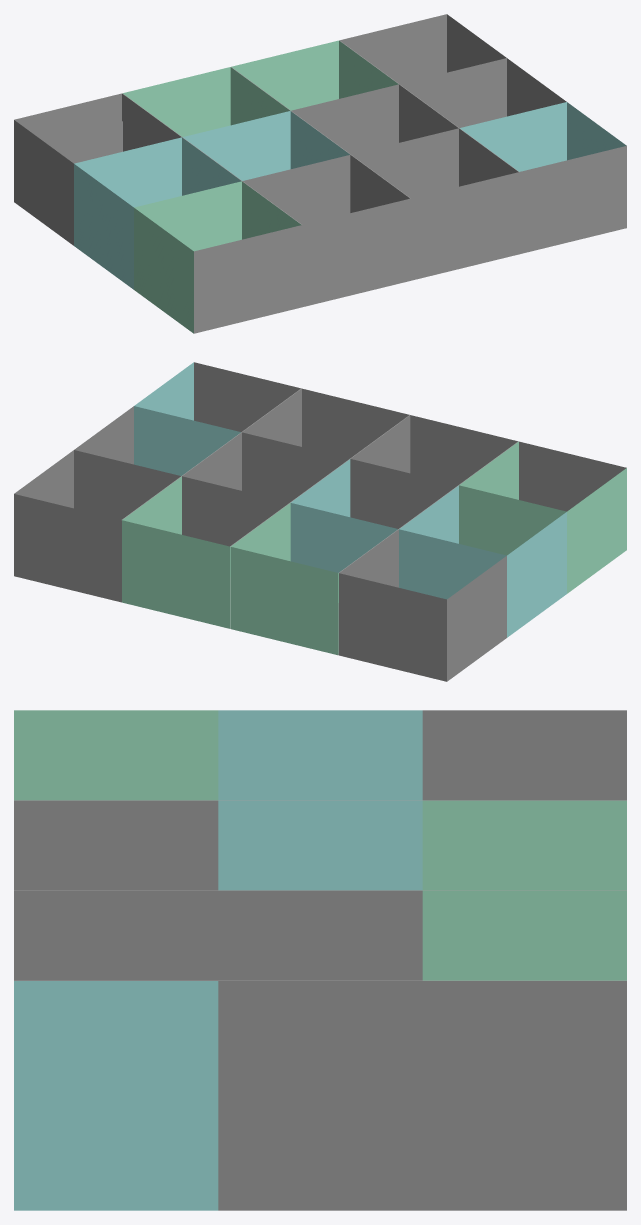
Rendered from overFloor.gltf.
The picture shows the model from 3 angles, top to bottom: view 1: azimuth 30°, elevation 25°; view 2: azimuth 150°, elevation 25°; view 3: azimuth 270°, elevation 25°; orthographic projection. The views are drawn at different scales.
Visible parts, largest first — view 1: overFloor; view 2: overFloor; view 3: overFloor.
Part boxes in pixels (x1,y1,x2,y2): overFloor: [14, 14, 626, 333]; overFloor: [14, 362, 626, 681]; overFloor: [14, 710, 626, 1210].
Size of the model in its own units: 33 by 6 by 23.76.
1 material, 1 textured.
